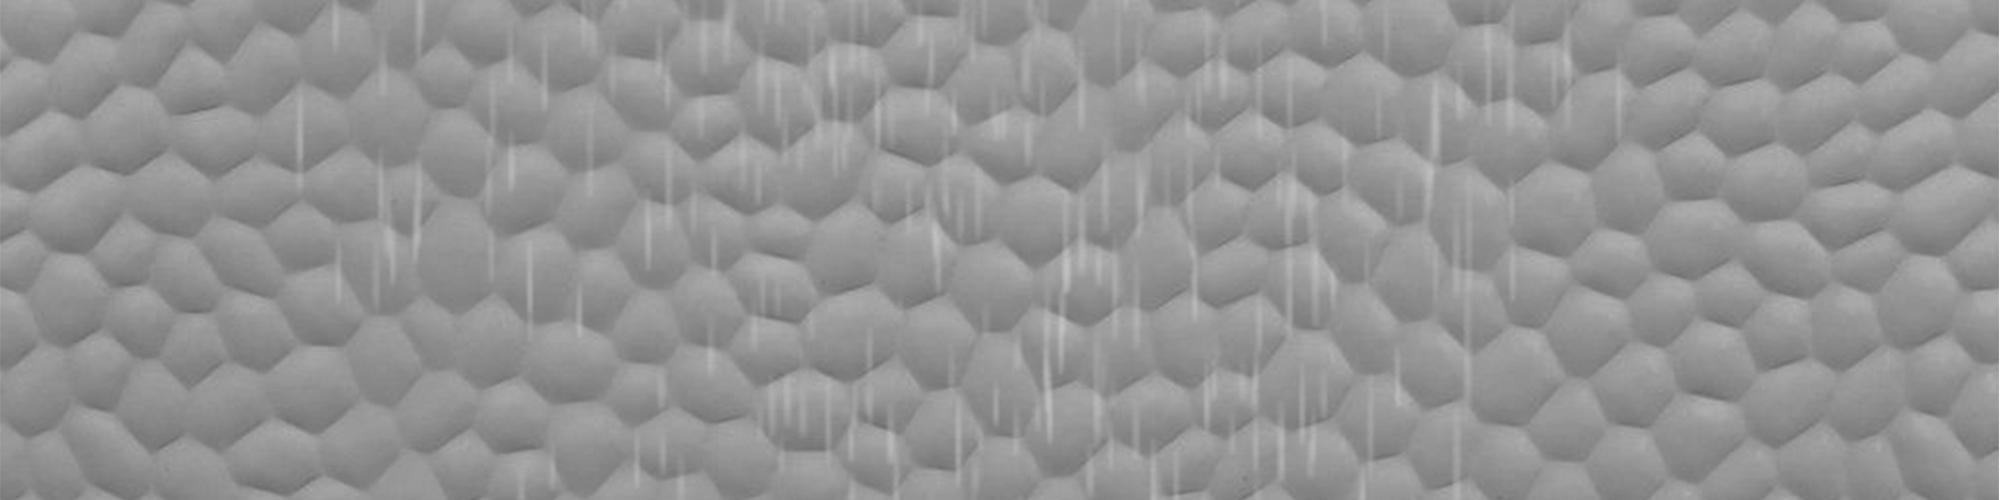Streaks: (1079, 347, 1187, 499), (1437, 166, 1486, 495), (1091, 159, 1156, 357), (795, 4, 858, 175), (927, 131, 991, 298), (844, 327, 906, 499), (1278, 48, 1306, 349), (1472, 3, 1528, 153), (906, 3, 966, 138), (744, 270, 829, 362), (749, 367, 814, 480), (1284, 352, 1341, 480), (1412, 66, 1452, 241), (987, 52, 1043, 168), (1031, 283, 1071, 443), (1179, 91, 1207, 321), (1195, 335, 1250, 453), (364, 143, 402, 307), (1054, 163, 1096, 307), (1495, 156, 1528, 327), (1241, 284, 1267, 494), (1543, 11, 1583, 139), (1198, 3, 1241, 111), (977, 370, 1023, 466), (631, 425, 691, 497), (1349, 361, 1381, 497), (1242, 26, 1274, 151), (287, 82, 319, 203), (937, 339, 963, 489), (477, 68, 501, 219), (728, 111, 767, 207), (510, 441, 570, 500), (406, 154, 434, 279), (869, 65, 902, 159), (518, 240, 545, 355), (1605, 42, 1630, 158), (624, 358, 679, 411), (653, 26, 682, 119), (534, 28, 560, 128), (686, 1, 716, 87), (696, 309, 727, 383), (702, 219, 735, 287), (1304, 185, 1318, 344), (1337, 99, 1355, 224), (1074, 34, 1097, 128), (1386, 335, 1413, 415), (774, 68, 793, 175), (1371, 11, 1401, 78), (366, 23, 394, 92), (818, 370, 837, 471), (966, 3, 995, 68), (1020, 3, 1057, 54), (500, 22, 524, 99), (605, 29, 628, 111), (1310, 6, 1344, 59), (582, 111, 599, 212), (1008, 320, 1033, 386), (657, 142, 679, 219), (1394, 162, 1415, 244), (717, 1, 739, 78), (1366, 77, 1392, 142), (898, 167, 920, 241), (1448, 54, 1469, 125), (1270, 403, 1290, 483), (486, 219, 503, 311), (569, 282, 593, 343), (319, 3, 344, 59), (579, 5, 605, 61), (754, 3, 788, 43), (1131, 23, 1148, 106), (407, 4, 426, 71), (330, 236, 349, 304), (1316, 261, 1341, 312), (693, 87, 710, 151), (1427, 241, 1443, 315), (505, 128, 520, 199), (685, 189, 704, 240), (647, 173, 656, 281), (754, 43, 767, 116), (1114, 11, 1124, 91)
